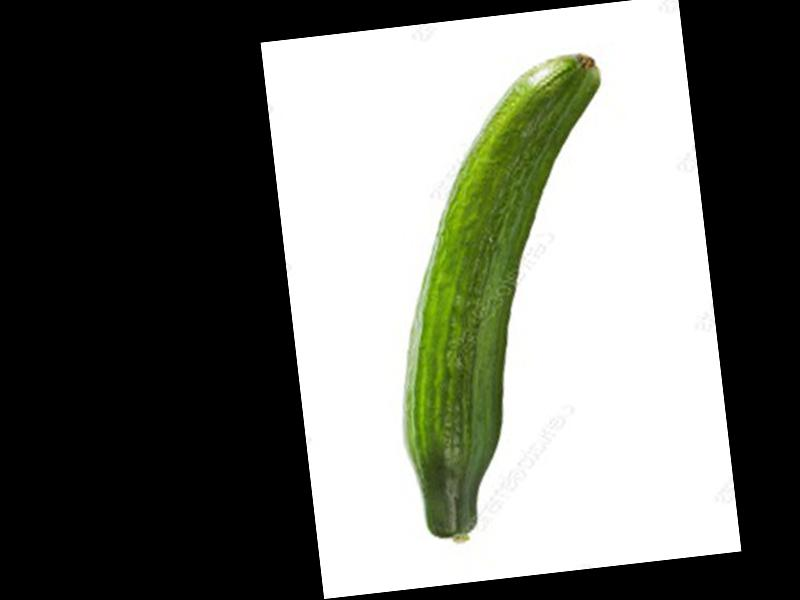Cucumber: (363, 51, 652, 548)
